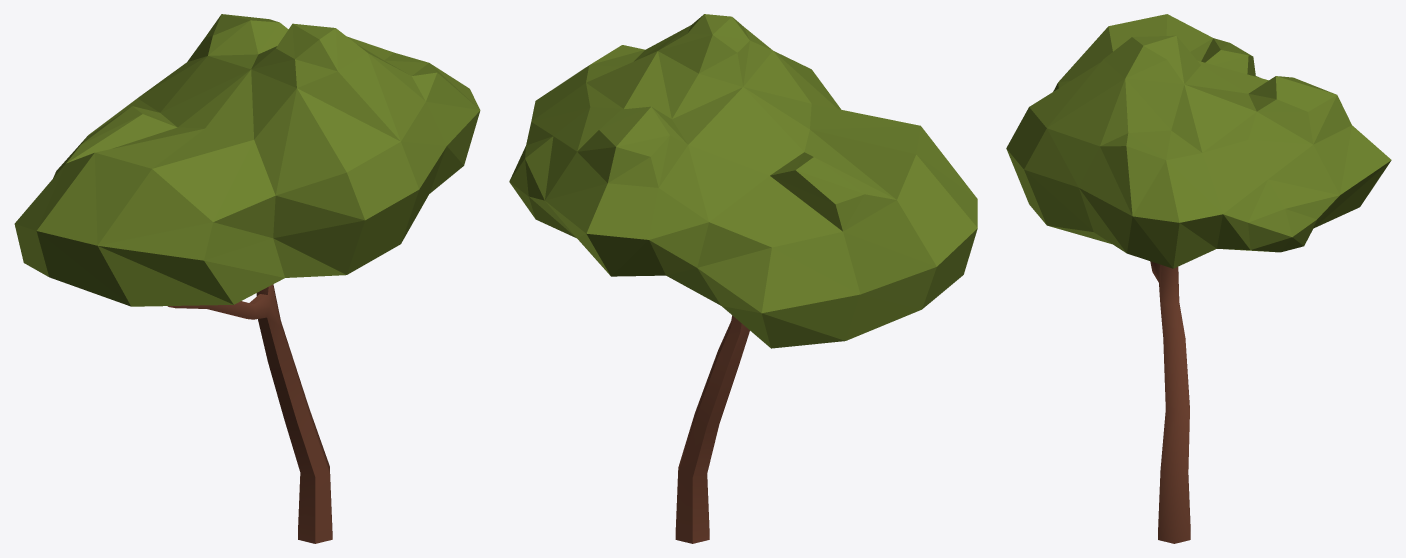
Rendered from TREE_3.FBX.
3 views of the same model, side by side, from view 1: azimuth 30°, elevation 25°; view 2: azimuth 150°, elevation 25°; view 3: azimuth 270°, elevation 25° (orthographic). The views are drawn at different scales.
Visible parts, largest first — view 1: Cylinder004; view 2: Cylinder004; view 3: Cylinder004.
Part boxes in pixels (bbox=[...]): Cylinder004: bbox=[14, 14, 480, 543]; Cylinder004: bbox=[509, 14, 977, 543]; Cylinder004: bbox=[1006, 14, 1391, 543].
Size of the model in its own units: 226 by 253 by 179.
